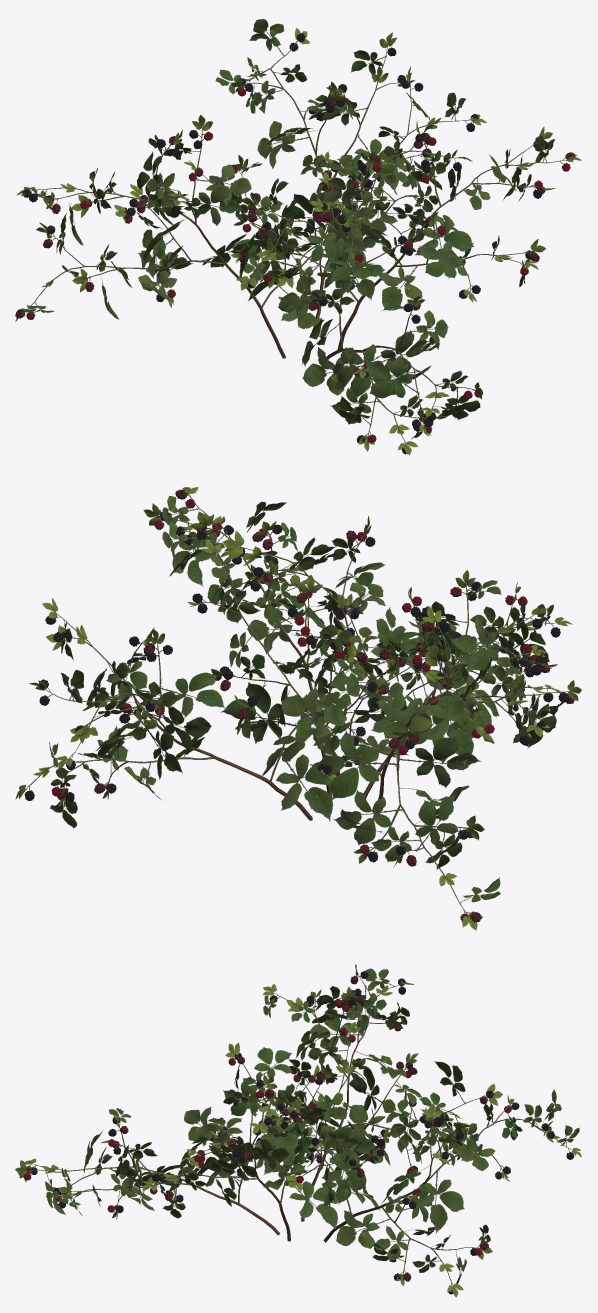
File: blackberry_03.glb
The picture shows the model from 3 angles, top to bottom: view 1: azimuth 30°, elevation 25°; view 2: azimuth 150°, elevation 25°; view 3: azimuth 270°, elevation 25°; orthographic projection. The views are drawn at different scales.
Parts seen in each view (by area): view 1: 3DTree_Rubus fruticosus_03; view 2: 3DTree_Rubus fruticosus_03; view 3: 3DTree_Rubus fruticosus_03.
Boxes of the visible parts, box(x1,y1,x2,y2) form: 3DTree_Rubus fruticosus_03: box(15, 19, 581, 455); 3DTree_Rubus fruticosus_03: box(15, 487, 581, 930); 3DTree_Rubus fruticosus_03: box(15, 964, 581, 1297).
Size of the model in its own units: 0.9023 by 0.4956 by 1.12.
Materials: 6 (3 with a texture image).
